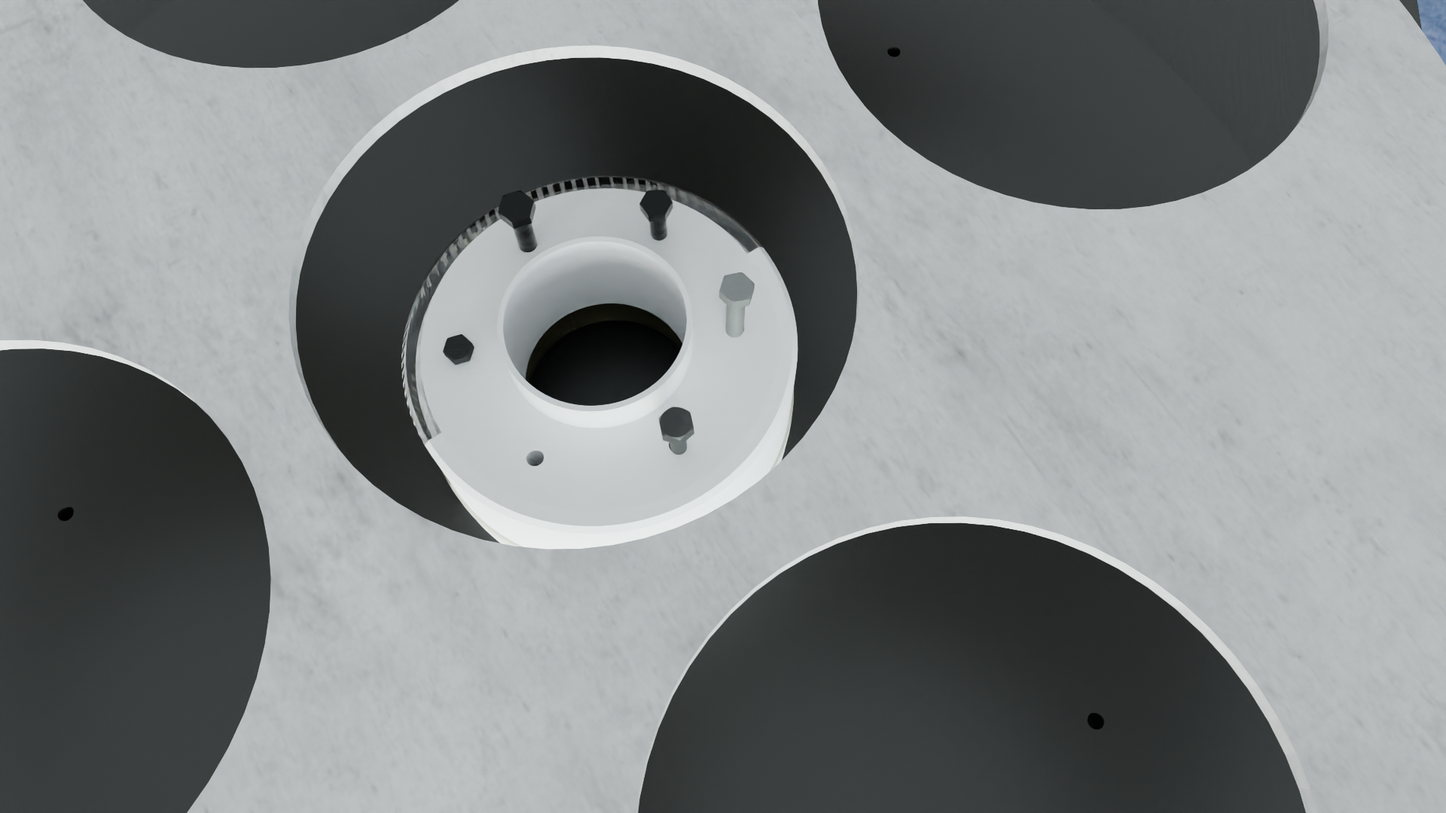bolt: (659, 406, 694, 440), (498, 190, 534, 223), (719, 272, 755, 303), (639, 190, 673, 216), (443, 334, 472, 361)
